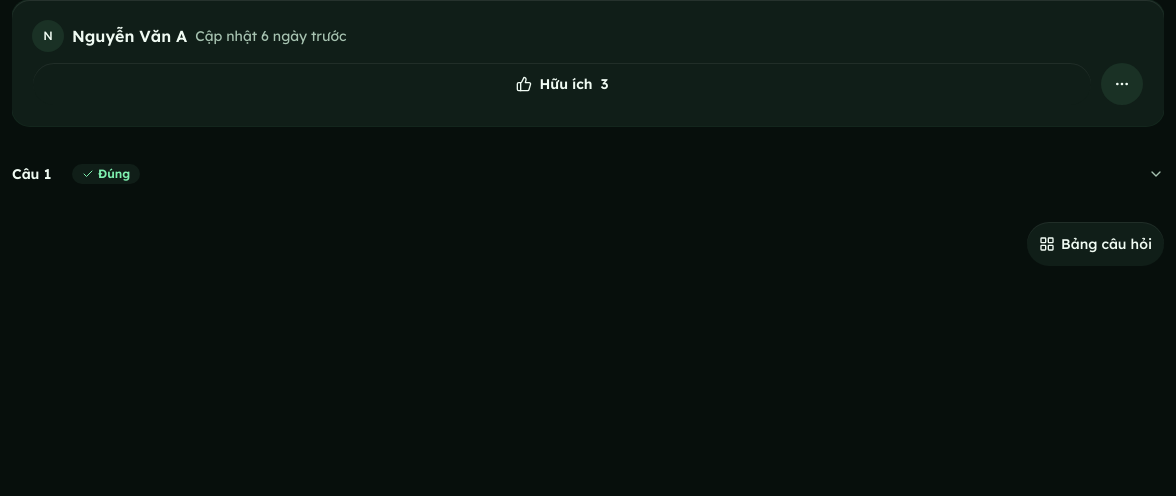
Test: SolutionViewScreen — comment affordance ở cấp màn (AC-048, Reference Contract #20) › note có mặt, commentCount: 0 ⇒ hiện nút 'Bình luận'
Click the button "Câu 1 Đúng".
click(32, 174)  # box [12,146,1164,202]
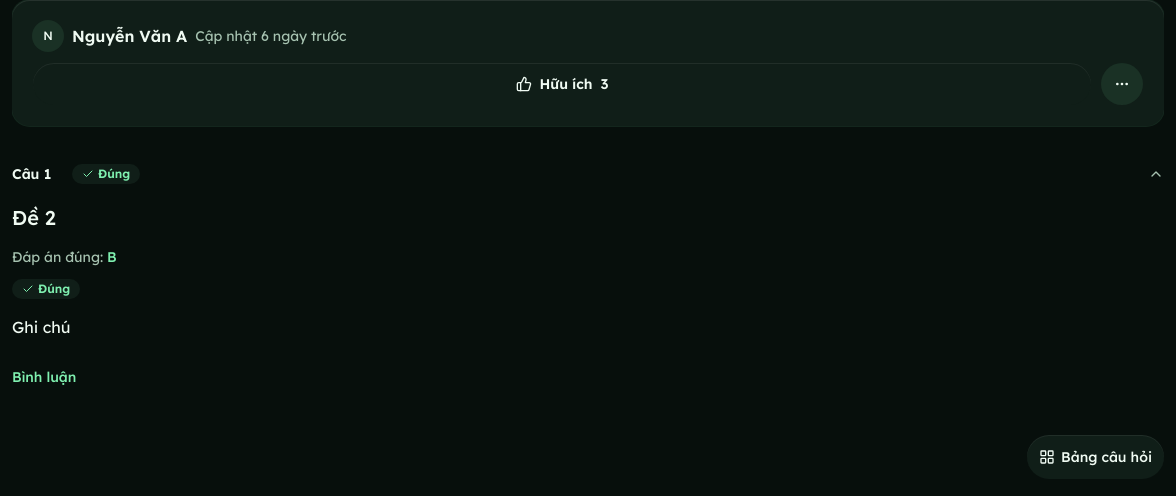
expect the button "Bình luận" is shown: met, box [12,354,76,398]
